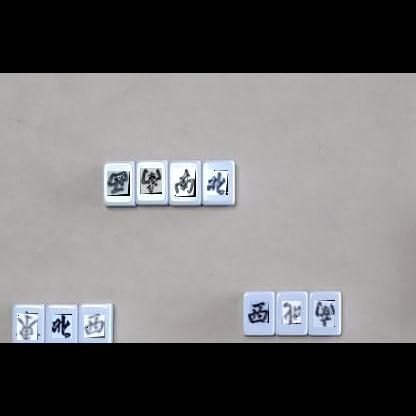1z: (17, 313, 38, 340)
2z: (174, 168, 196, 197), (140, 168, 162, 194), (314, 300, 335, 327)
3z: (107, 171, 130, 196), (84, 315, 105, 338), (248, 301, 269, 323)
4z: (207, 170, 228, 195), (52, 314, 72, 338), (282, 301, 301, 324)
